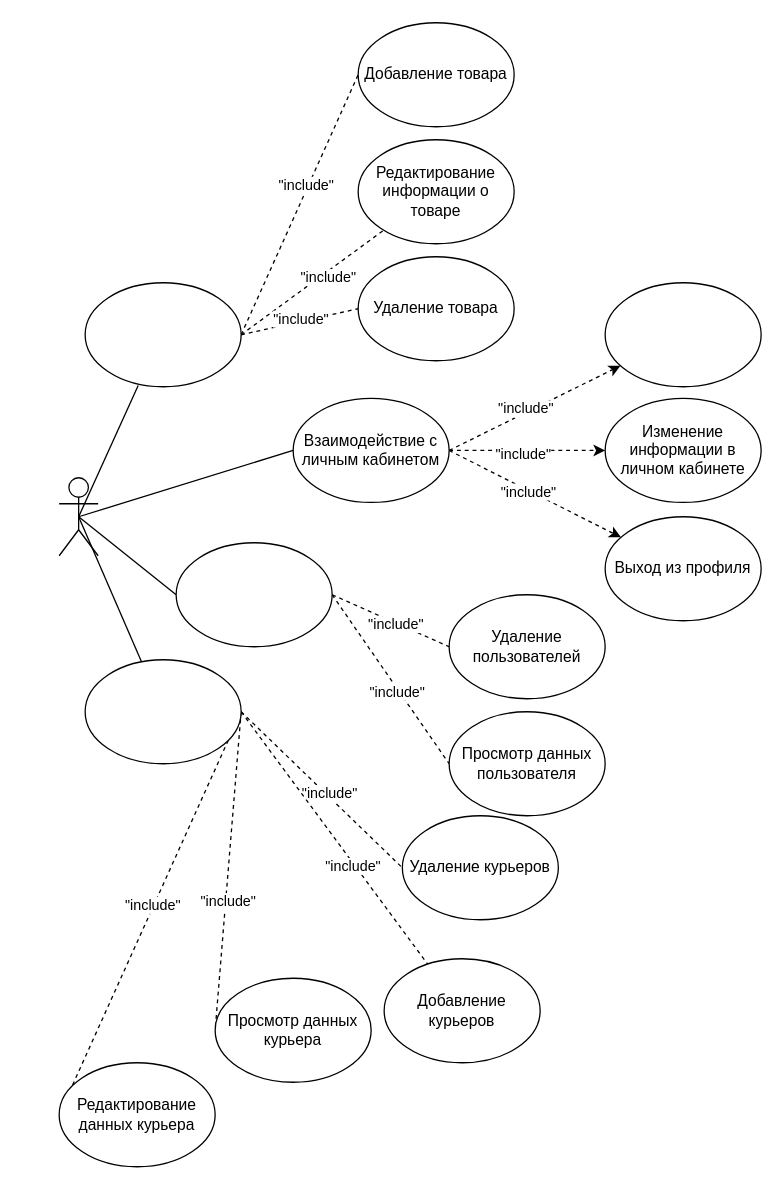
This 784x1190 diagram has some shape labels left out. Each missing label, with the centre of its shape:
Администратор: the point at 78,516
Просмотр информации в личном кабинете: the point at 682,334
Управление информацией о курьерах: the point at 162,711
Управление информацией о пользователях: the point at 253,594
Управление информацией о товарах: the point at 162,334
